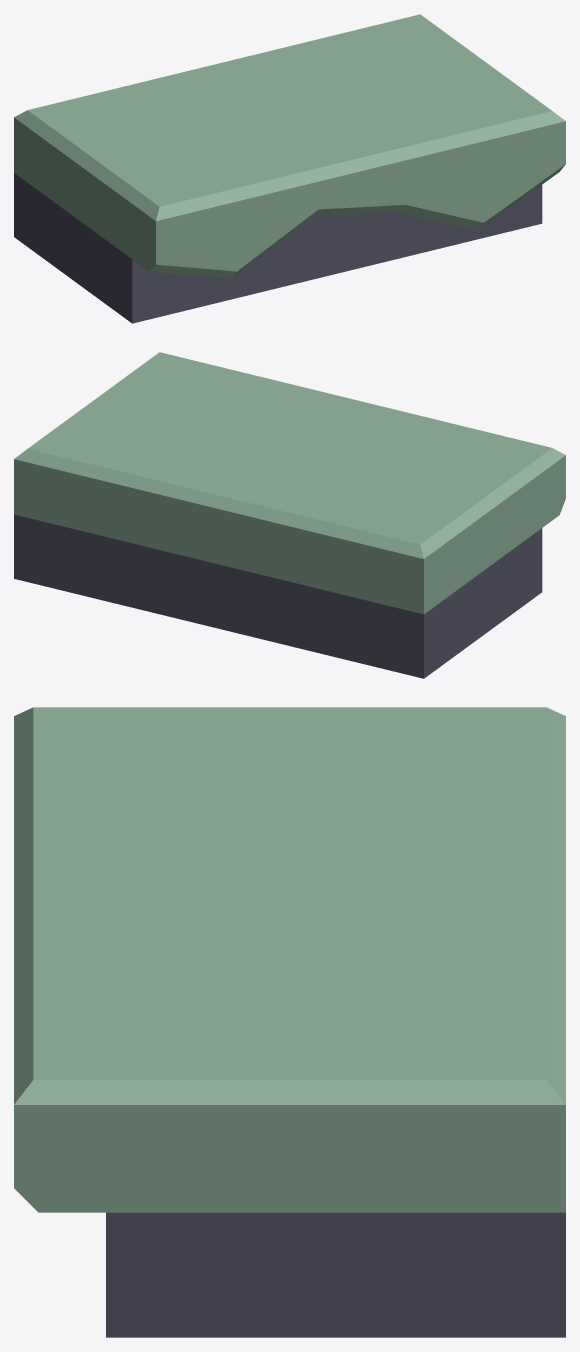
The model's file is frontTile1.fbx.
The picture shows the model from 3 angles, top to bottom: view 1: azimuth 30°, elevation 25°; view 2: azimuth 150°, elevation 25°; view 3: azimuth 270°, elevation 25°; orthographic projection. The views are drawn at different scales.
Parts seen in each view (by area): view 1: frontTile1; view 2: frontTile1; view 3: frontTile1.
Boxes of the visible parts, box(x1,y1,x2,y2) form: frontTile1: box(14, 14, 565, 323); frontTile1: box(14, 352, 565, 678); frontTile1: box(14, 707, 565, 1337).
Bounding box in the file's own units: 100 × 29.94 × 60.
